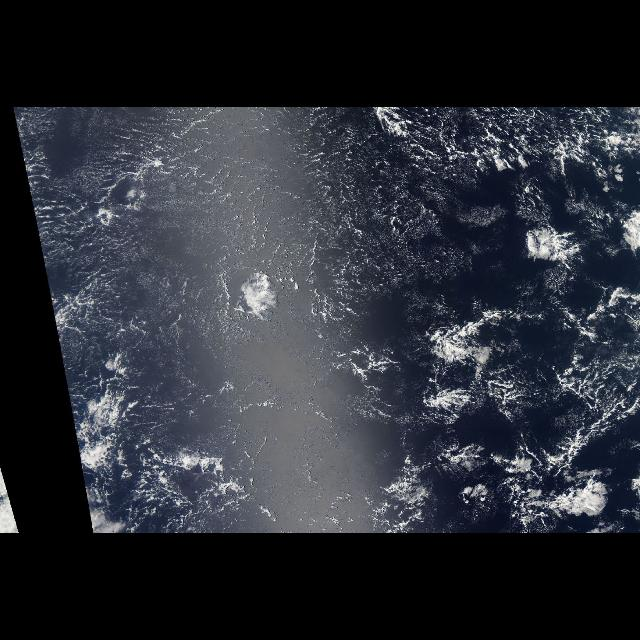Gravel: (300, 128, 442, 300)
Sugar: (18, 109, 412, 435)
